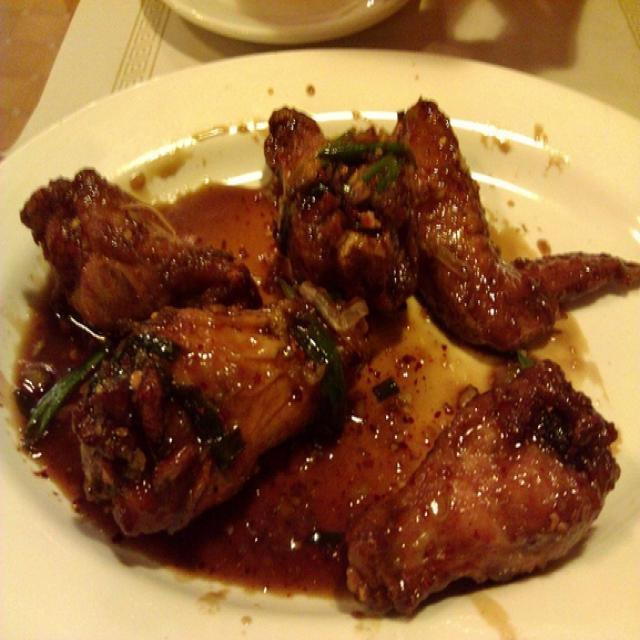Deep fried chicken wing: (61, 114, 613, 582)
